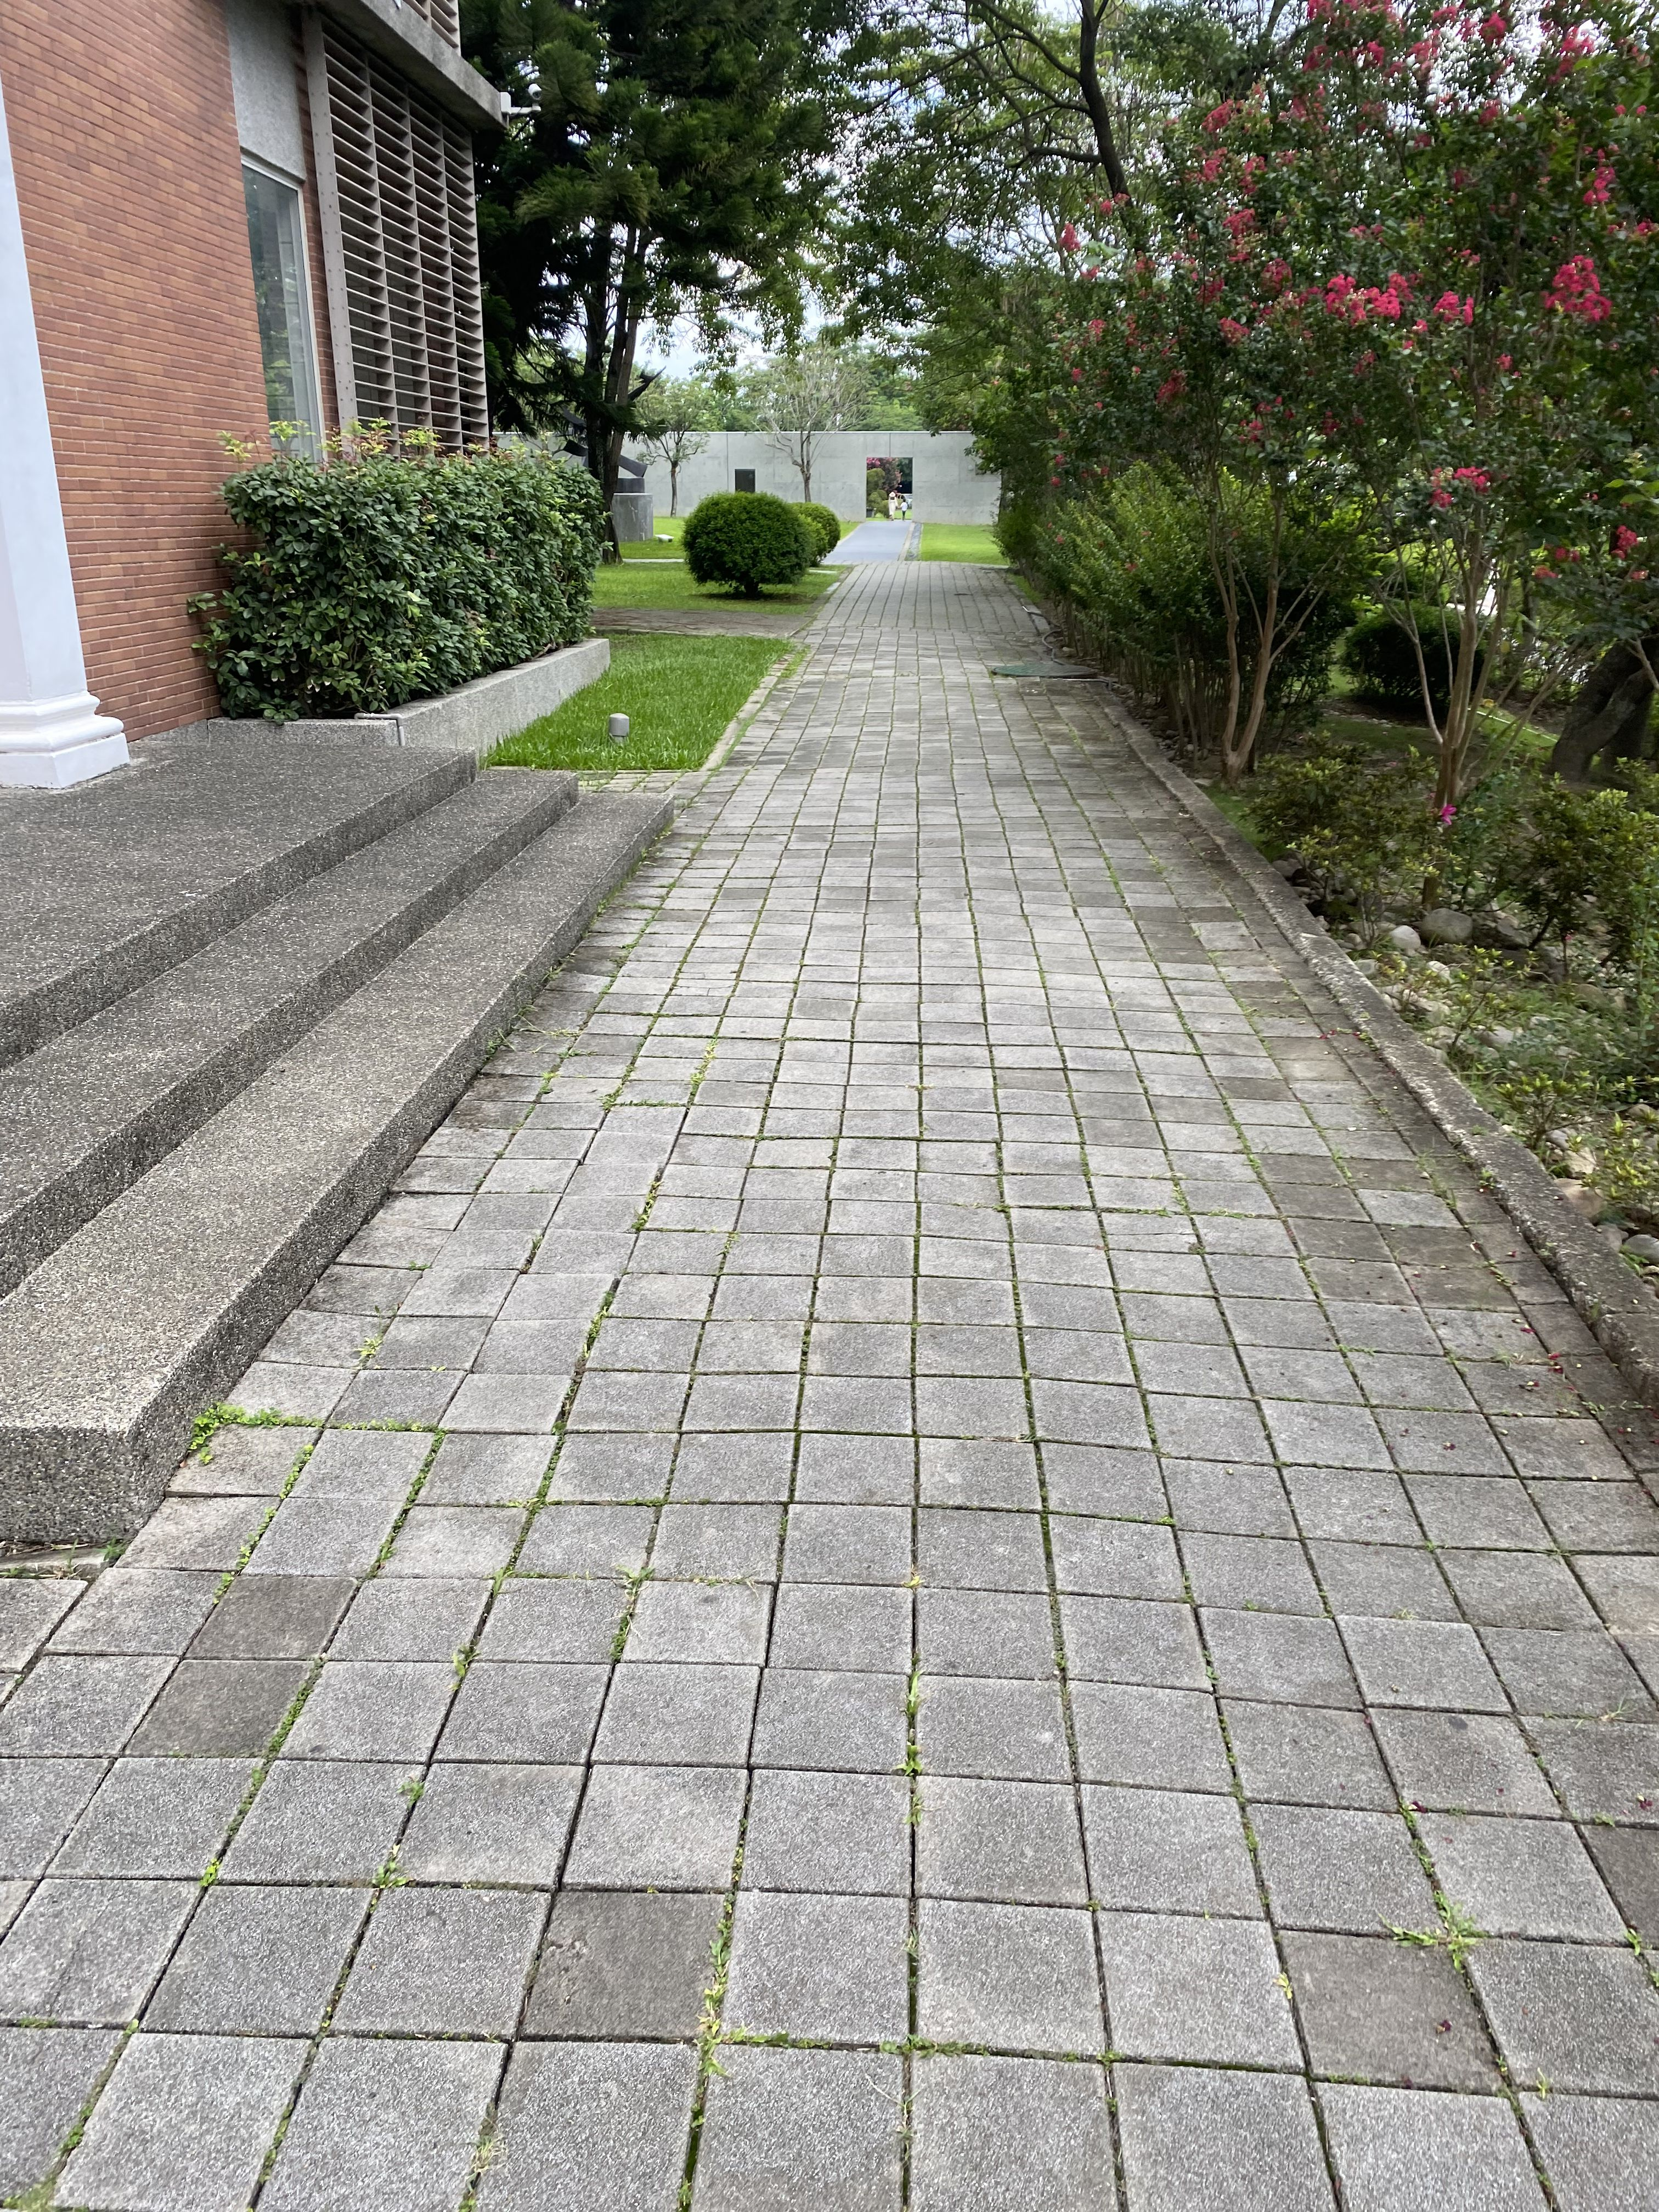0: (5, 730, 770, 2212)
sidewalk: (762, 535, 1659, 2212)
